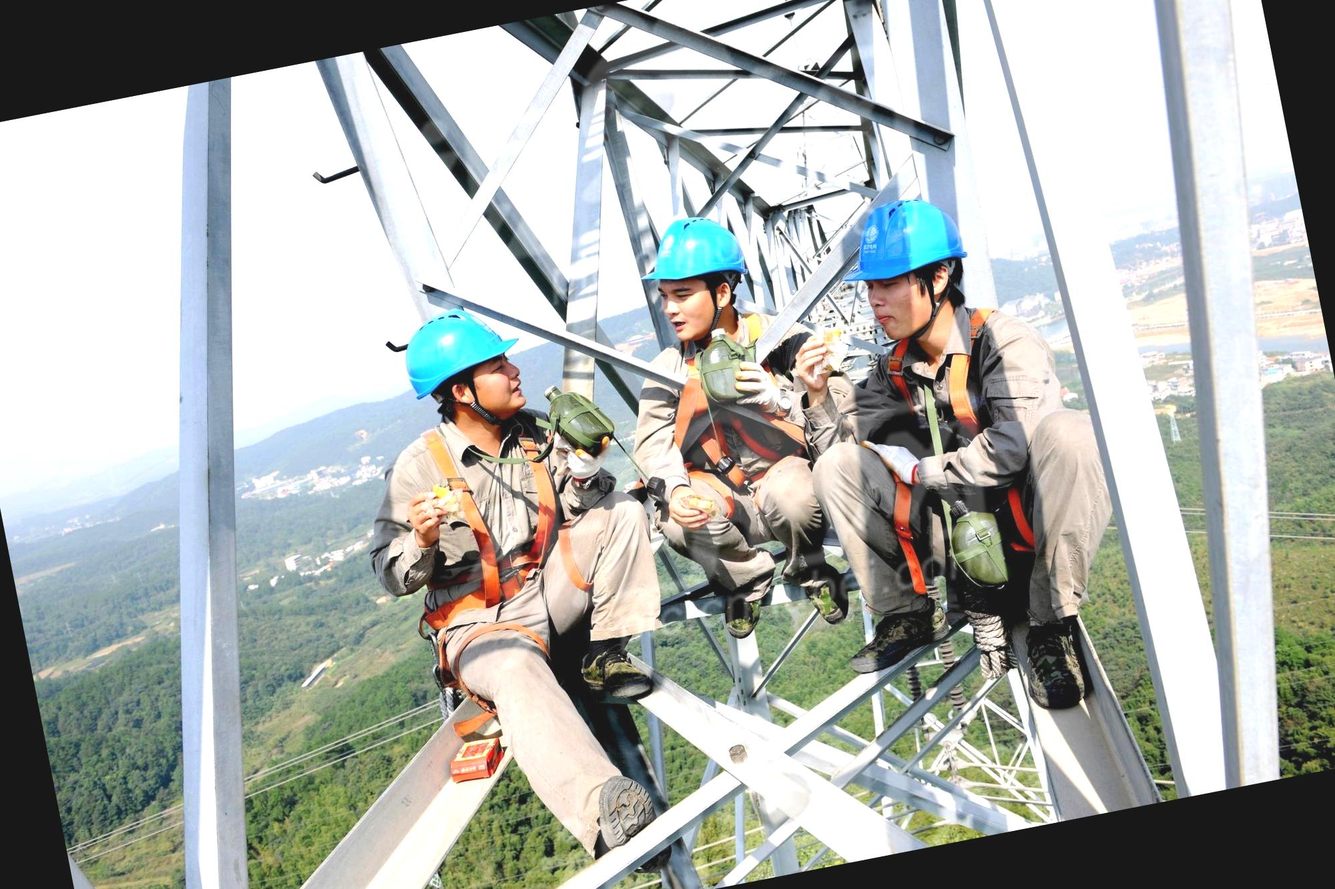helmet: (840, 183, 966, 281), (394, 308, 511, 393), (629, 207, 736, 299)
person: (339, 269, 736, 889), (800, 189, 1096, 754), (588, 180, 895, 662)
